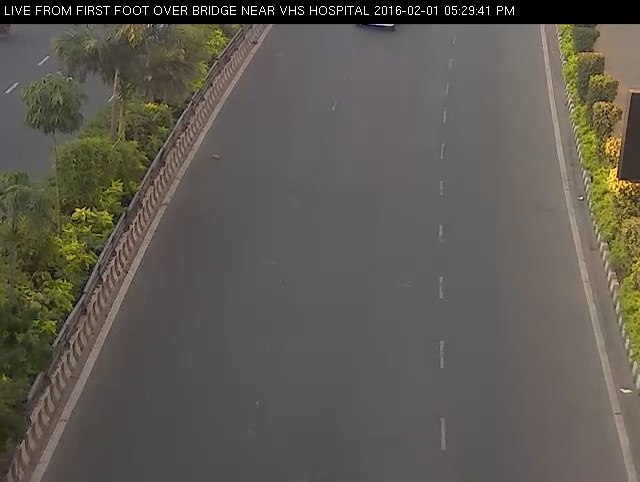Car: (348, 19, 401, 38)
